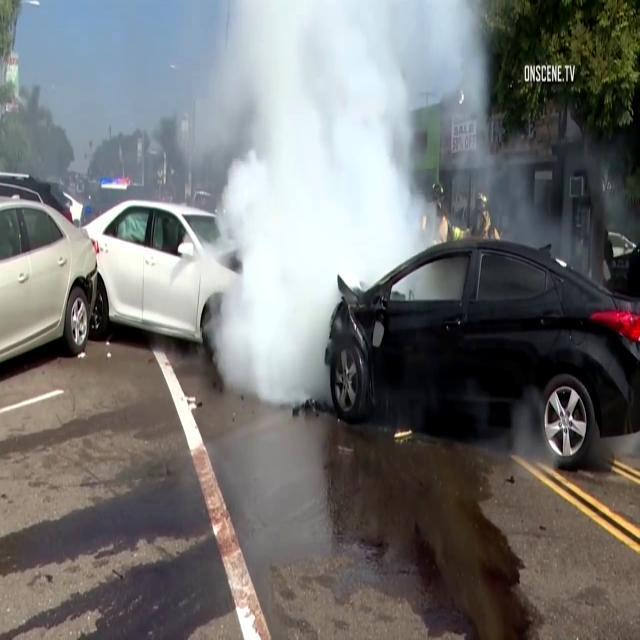Smoke: (208, 2, 472, 414)
